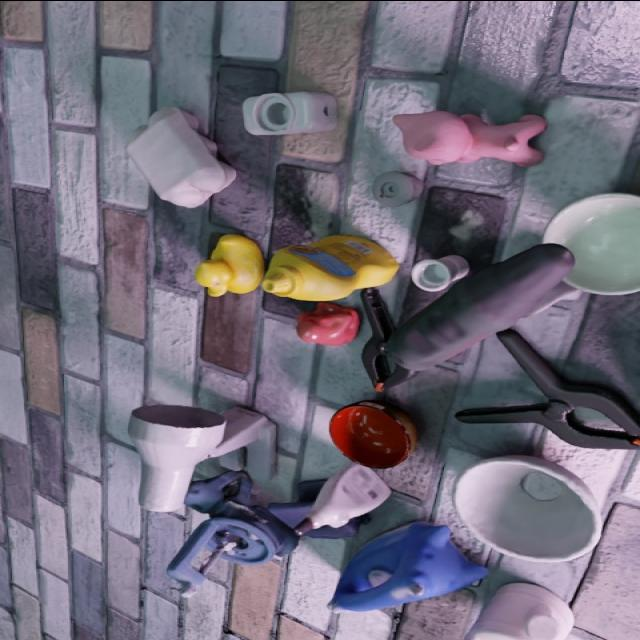Other Objects: (385, 243, 575, 387), (455, 328, 639, 447), (455, 454, 600, 560), (127, 106, 236, 206), (543, 191, 639, 294), (260, 234, 399, 300), (393, 109, 545, 165), (300, 463, 391, 530), (329, 399, 417, 467), (195, 234, 264, 295), (243, 90, 337, 133), (296, 301, 360, 344), (412, 254, 468, 291), (371, 170, 423, 206)
